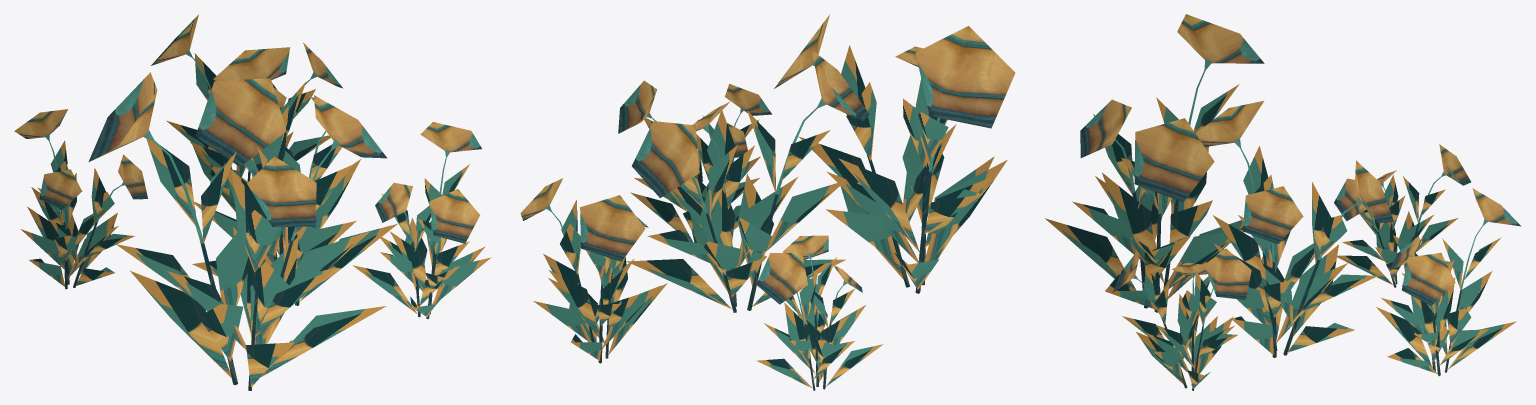
The model's file is SM_DaisyFlowersPatch.glb.
3 views of the same model, side by side, from view 1: azimuth 30°, elevation 25°; view 2: azimuth 150°, elevation 25°; view 3: azimuth 270°, elevation 25° (orthographic). The views are drawn at different scales.
Visible parts, largest first — view 1: SM_DaisyFlowersPatch_LOD0; view 2: SM_DaisyFlowersPatch_LOD0; view 3: SM_DaisyFlowersPatch_LOD0.
Part boxes in pixels (x1,y1,x2,y2): SM_DaisyFlowersPatch_LOD0: [14, 14, 491, 390]; SM_DaisyFlowersPatch_LOD0: [520, 14, 1015, 390]; SM_DaisyFlowersPatch_LOD0: [1044, 14, 1520, 390].
Bounding box in the file's own units: 1.29 × 0.9559 × 1.57.
Materials: 1 (1 with a texture image).
